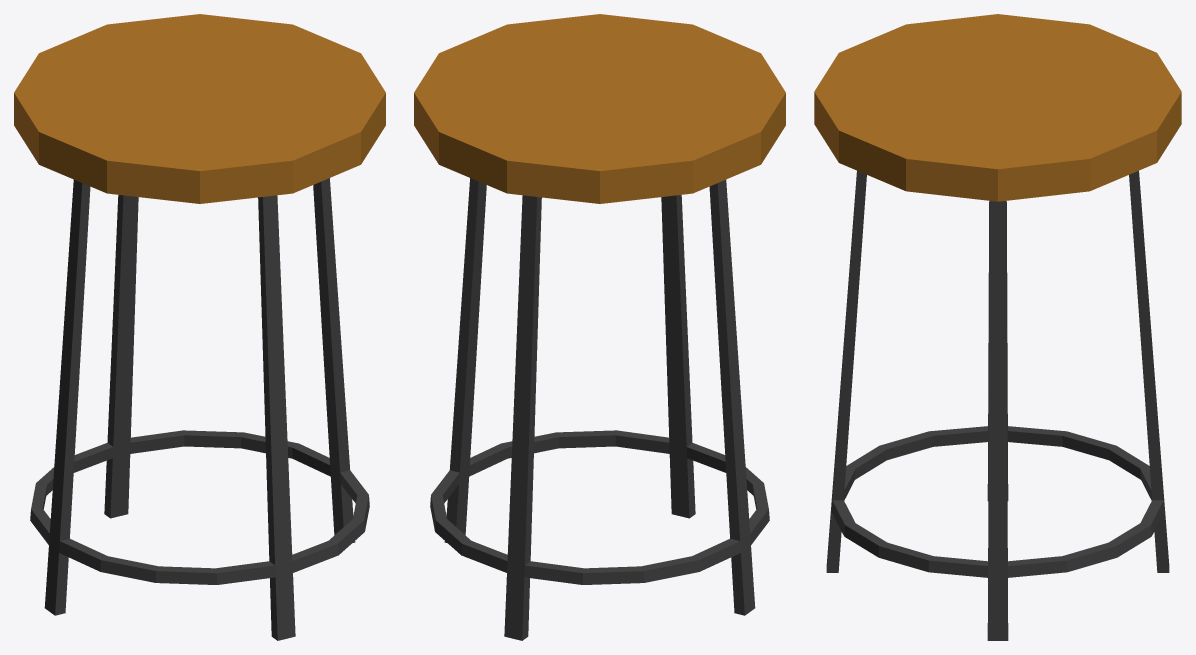
Rendered from Stool.fbx.
3 renders of one model, left to right at view 1: azimuth 30°, elevation 25°; view 2: azimuth 150°, elevation 25°; view 3: azimuth 270°, elevation 25°, orthographic.
Parts seen in each view (by area): view 1: Circle; view 2: Circle; view 3: Circle.
Part boxes in pixels (x1,y1,x2,y2): Circle: [14, 14, 385, 640]; Circle: [414, 14, 785, 640]; Circle: [814, 14, 1181, 640].
Size of the model in its own units: 62.04 by 88.85 by 62.04.
